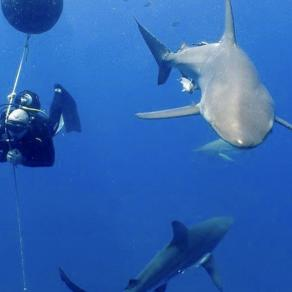Shark -Selachimorpha-: (131, 0, 292, 146), (58, 213, 232, 292)
